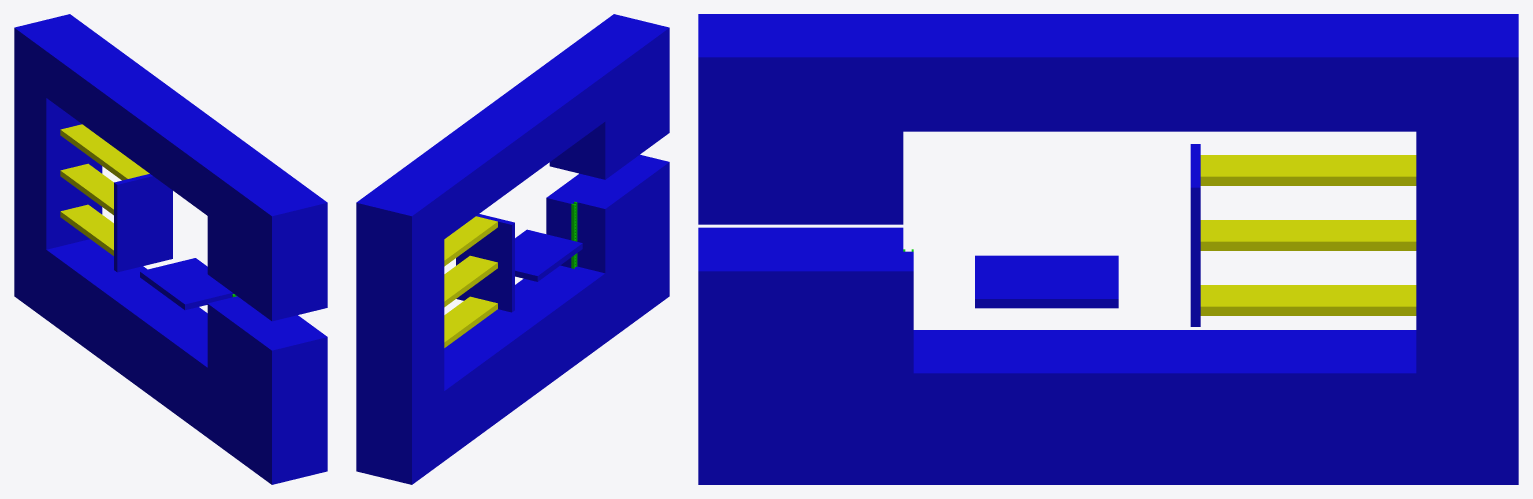
Rendered from Level_3_scene12_colored.fbx.
3 views of the same model, side by side, from view 1: azimuth 30°, elevation 25°; view 2: azimuth 150°, elevation 25°; view 3: azimuth 270°, elevation 25° (orthographic). The views are drawn at different scales.
Visible parts, largest first — view 1: Cube.107, Cube.110, Cube.108, Cube.012, Cube.001, Cube.002; view 2: Cube.107, Cube.110, Cube.108, Cube.001, Cube.002, Cube.012, Cube.004, Cube.082; view 3: Cube.107, Cube.108, Cube.012, Cube.001, Cube.002, Cube.110, Cube.004.
Boxes of the visible parts, <box> form: Cube.107: <box>14,14,327,484</box>; Cube.110: <box>114,174,172,272</box>; Cube.108: <box>140,258,233,310</box>; Cube.012: <box>60,124,149,180</box>; Cube.001: <box>60,163,113,215</box>; Cube.002: <box>60,204,113,255</box>; Cube.107: <box>356,14,669,484</box>; Cube.110: <box>456,214,514,312</box>; Cube.108: <box>515,229,582,281</box>; Cube.001: <box>444,255,497,307</box>; Cube.002: <box>444,296,497,347</box>; Cube.012: <box>444,216,497,266</box>; Cube.004: <box>546,195,573,267</box>; Cube.082: <box>571,201,577,268</box>; Cube.107: <box>698,14,1518,484</box>; Cube.108: <box>975,255,1118,308</box>; Cube.012: <box>1200,155,1416,185</box>; Cube.001: <box>1200,220,1416,250</box>; Cube.002: <box>1200,285,1416,315</box>; Cube.110: <box>1190,144,1200,326</box>; Cube.004: <box>903,251,913,373</box>.
Bounding box in the file's own units: 1000 × 4600 × 8000.
